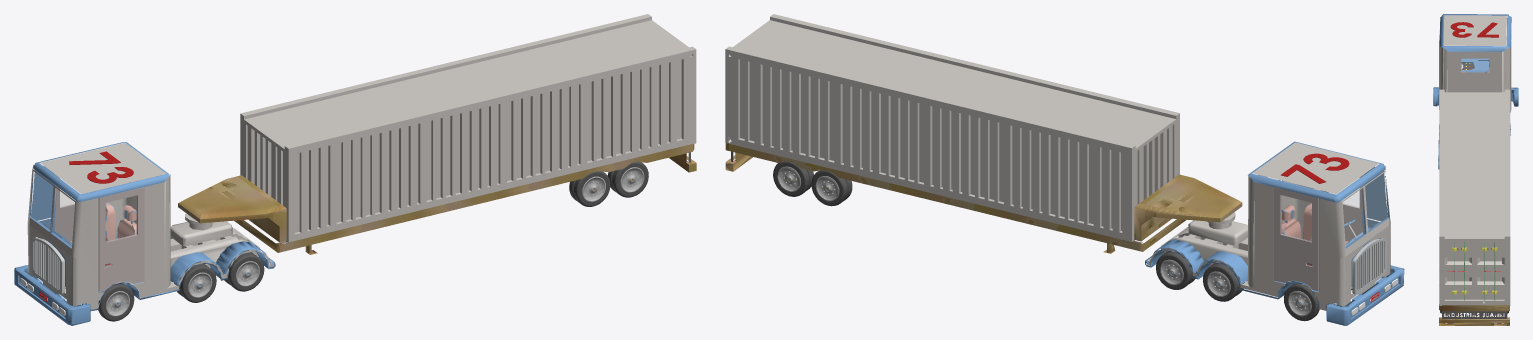
Rendered from truck_with_trailer.glb.
3 views of the same model, side by side, from view 1: azimuth 30°, elevation 25°; view 2: azimuth 150°, elevation 25°; view 3: azimuth 270°, elevation 25° (orthographic). The views are drawn at different scales.
Parts seen in each view (by area): view 1: contenedor 40 pies 2024 B-1_13, camion-1_12, remolque-1_17, puerta izquierda-1_16, rueda 01-12_21, rueda 01-10_19, rueda 01-13_22, rueda 01-4_30, rueda 01-2_28, puerta derecha-1_15; view 2: contenedor 40 pies 2024 B-1_13, camion-1_12, remolque-1_17, puerta derecha-1_15, rueda 01-15_24, rueda 01-17_26, rueda 01-18_27, rueda 01-8_34, rueda 01-6_32, puerta izquierda-1_16; view 3: contenedor 40 pies 2024 B-1_13, camion-1_12, remolque-1_17, puerta derecha-1_15, puerta izquierda-1_16.
Part boxes in pixels (x1,y1,x2,y2): contenedor 40 pies 2024 B-1_13: (240,14,696,242); camion-1_12: (14,142,275,325); remolque-1_17: (178,144,696,254); puerta izquierda-1_16: (98,187,144,291); rueda 01-12_21: (228,253,264,291); rueda 01-10_19: (180,264,216,302); rueda 01-13_22: (98,283,134,321); rueda 01-4_30: (573,171,610,206); rueda 01-2_28: (612,161,648,197); puerta derecha-1_15: (54,174,74,241); contenedor 40 pies 2024 B-1_13: (725,14,1179,241); camion-1_12: (1145,141,1404,325); remolque-1_17: (725,143,1242,253); puerta derecha-1_15: (1273,187,1318,291); rueda 01-15_24: (1156,251,1192,289); rueda 01-17_26: (1203,263,1239,301); rueda 01-18_27: (1284,283,1319,321); rueda 01-8_34: (811,169,847,206); rueda 01-6_32: (773,161,809,196); puerta izquierda-1_16: (1322,174,1364,241); contenedor 40 pies 2024 B-1_13: (1439,89,1510,305); camion-1_12: (1433,14,1518,169); remolque-1_17: (1439,248,1509,325); puerta derecha-1_15: (1510,40,1511,110); puerta izquierda-1_16: (1439,30,1441,109).
Size of the model in its own units: 18.87 by 3.89 by 3.01.
Materials: 30 (5 with a texture image).
